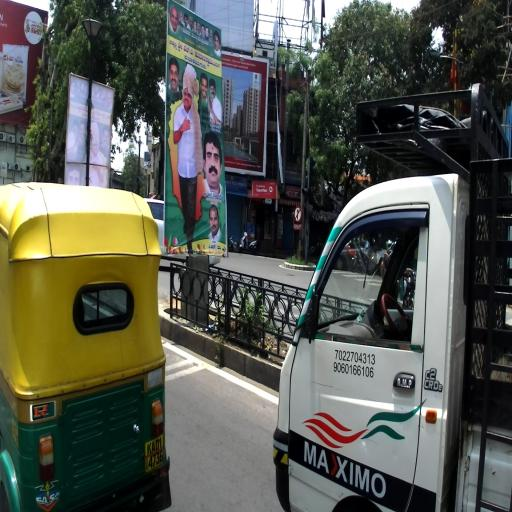street_light_0: (429, 50, 462, 64)
